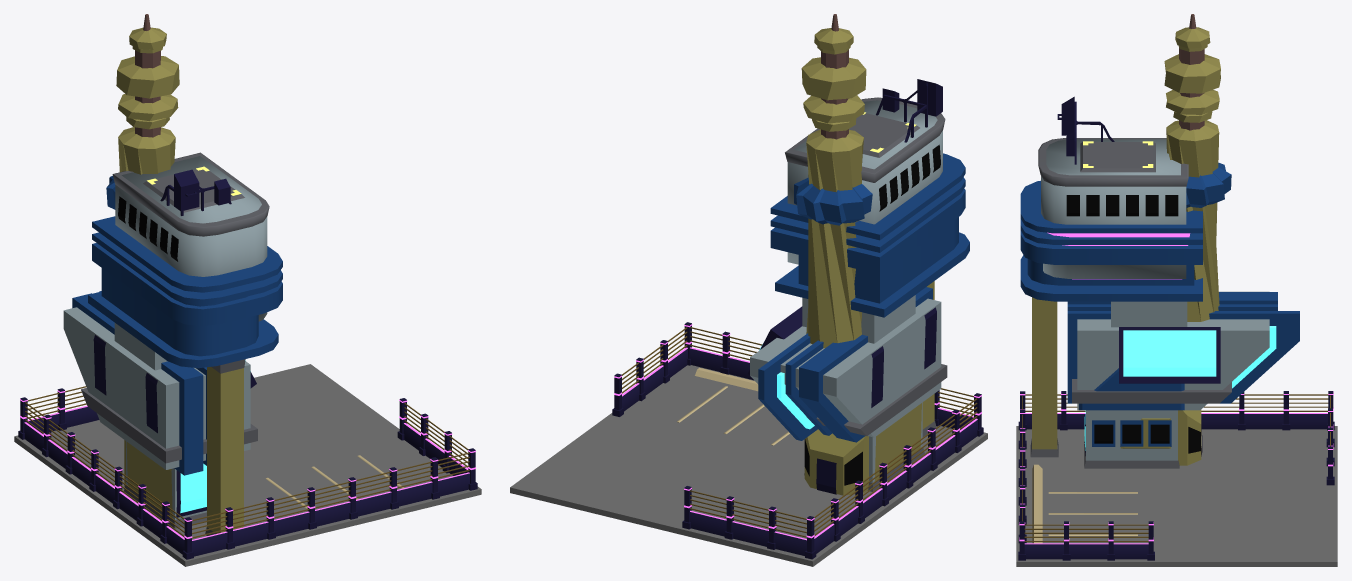
File: PoliceStation.fbx
The picture shows the model from 3 angles, left to right: view 1: azimuth 30°, elevation 25°; view 2: azimuth 150°, elevation 25°; view 3: azimuth 270°, elevation 25°; orthographic projection. The views are drawn at different scales.
Parts seen in each view (by area): view 1: Cube.947, Road.169; view 2: Cube.947, Road.169; view 3: Cube.947, Road.169.
Part boxes in pixels (x1=…): Cube.947: x1=18, y1=14, x2=477, y2=559; Road.169: x1=14, y1=364, x2=481, y2=566; Cube.947: x1=612, y1=14, x2=983, y2=559; Road.169: x1=510, y1=365, x2=987, y2=566; Cube.947: x1=1018, y1=14, x2=1334, y2=560; Road.169: x1=1016, y1=426, x2=1337, y2=566.
Size of the model in its own units: 400 by 606 by 400.
